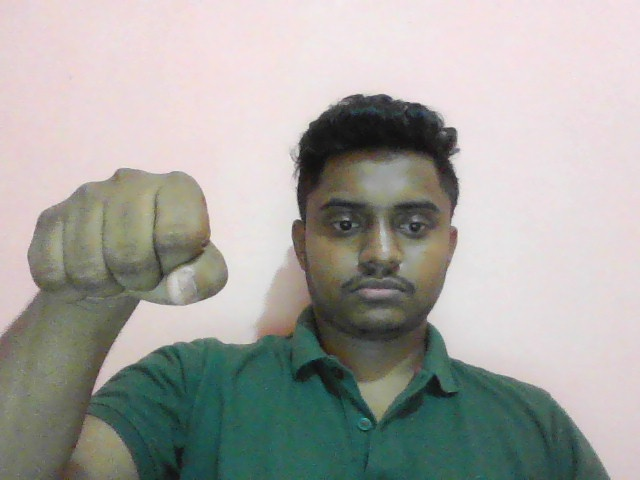Yes: (18, 162, 232, 311)
